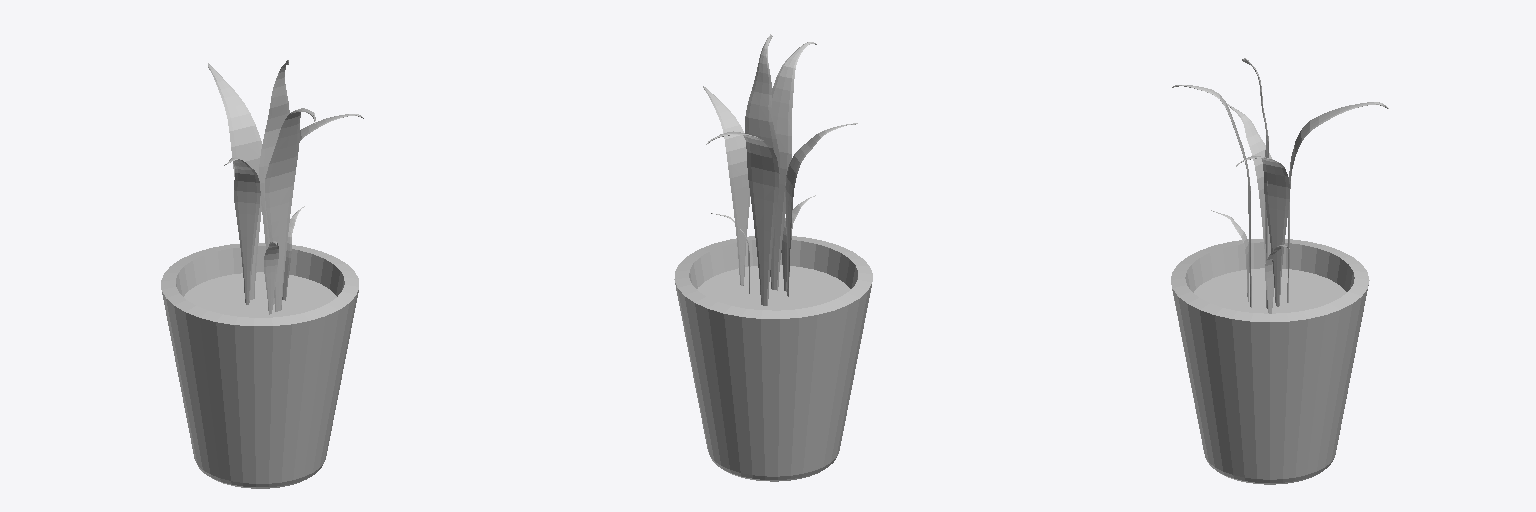
Rendered from pianta.obj.
3 views of the same model, side by side, from view 1: azimuth 30°, elevation 25°; view 2: azimuth 150°, elevation 25°; view 3: azimuth 270°, elevation 25° (orthographic).
Parts seen in each view (by area): view 1: Cylinder, Cylinder.001, Plane.003, Plane, Plane.002, Plane.006, Plane.005; view 2: Cylinder, Cylinder.001, Plane, Plane.003, Plane.001, Plane.006, Plane.002; view 3: Cylinder, Cylinder.001, Plane.001, Plane.002, Plane, Plane.003.
Boxes of the visible parts, x1,y1,x2,y2 form: Cylinder: [161, 243, 358, 488]; Cylinder.001: [184, 272, 336, 317]; Plane.003: [265, 108, 315, 311]; Plane: [208, 63, 261, 299]; Plane.002: [224, 158, 260, 304]; Plane.006: [259, 60, 289, 304]; Plane.005: [264, 241, 278, 314]; Cylinder: [674, 236, 872, 481]; Cylinder.001: [697, 265, 850, 310]; Plane: [706, 131, 779, 305]; Plane.003: [770, 42, 816, 290]; Plane.001: [703, 86, 750, 285]; Plane.006: [745, 34, 779, 294]; Plane.002: [785, 123, 857, 296]; Cylinder: [1171, 238, 1369, 484]; Cylinder.001: [1194, 268, 1346, 313]; Plane.001: [1236, 156, 1289, 306]; Plane.002: [1227, 104, 1271, 262]; Plane: [1287, 102, 1388, 302]; Plane.003: [1172, 85, 1251, 307].
Bounding box in the file's own units: 0.56 × 1.26 × 0.6105.